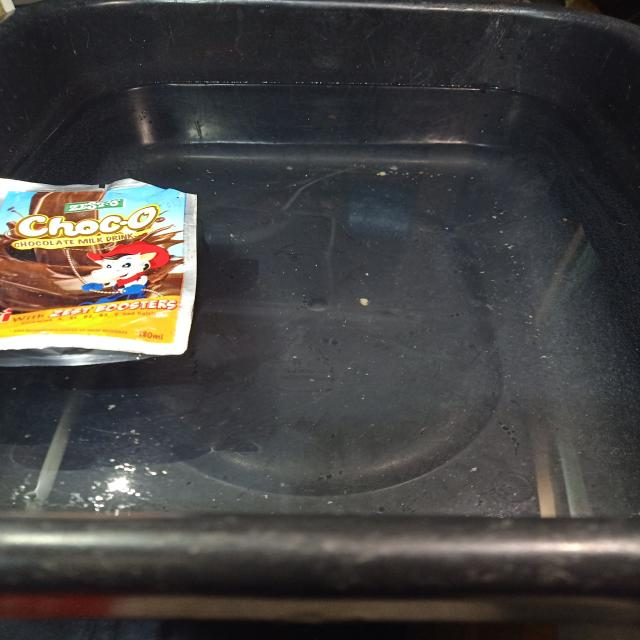Plastic Pouch: (0, 179, 196, 365)
